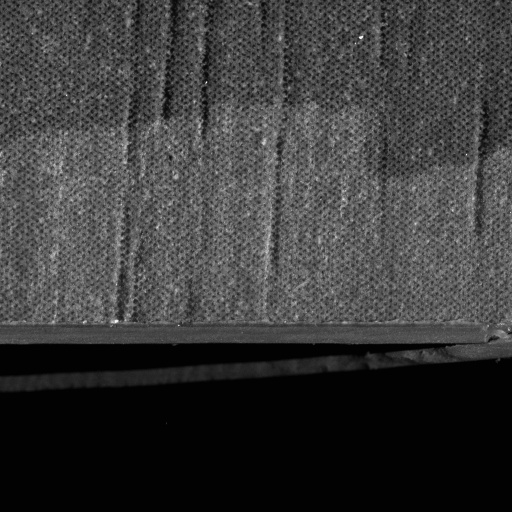kaijiao: (0, 318, 511, 395)
